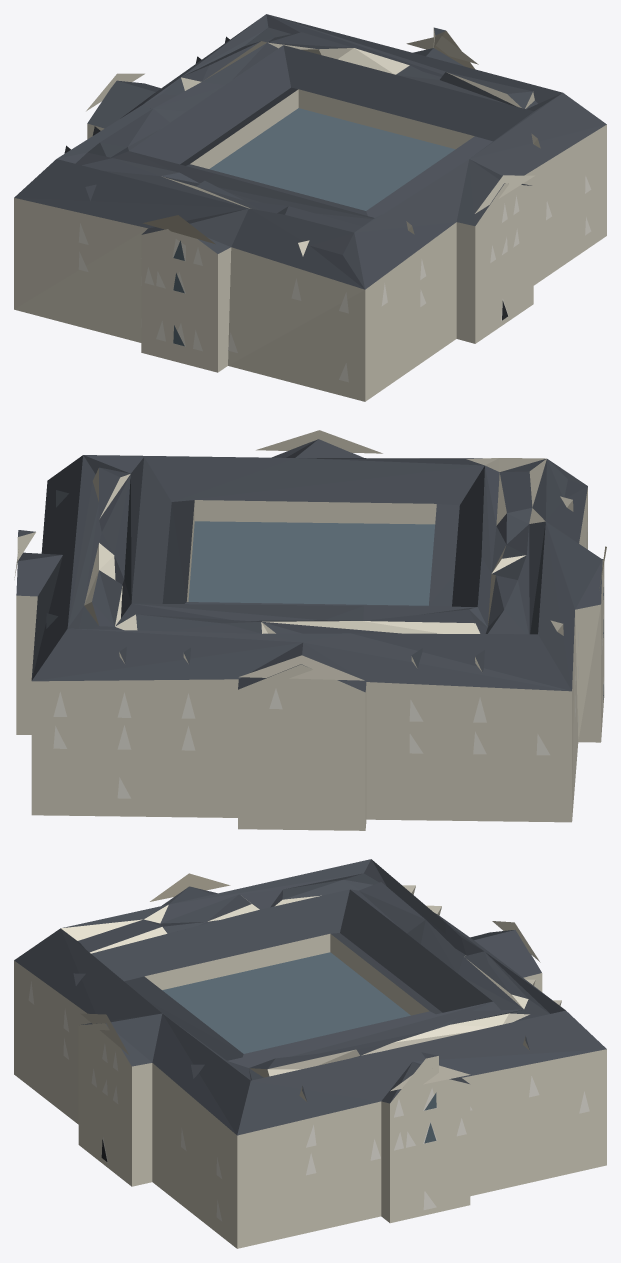
Rendered from scheepvaartmuseum.lod2.glb.
3 renders of one model, top to bottom at view 1: azimuth 30°, elevation 25°; view 2: azimuth 150°, elevation 25°; view 3: azimuth 270°, elevation 25°, orthographic. The views are drawn at different scales.
Visible parts, largest first — view 1: lod2; view 2: lod2; view 3: lod2.
Boxes of the visible parts, x1=… form: lod2: x1=14, y1=14, x2=606, y2=401; lod2: x1=14, y1=430, x2=606, y2=830; lod2: x1=14, y1=859, x2=606, y2=1248.
Size of the model in its own units: 84.2 by 23.81 by 81.71.
